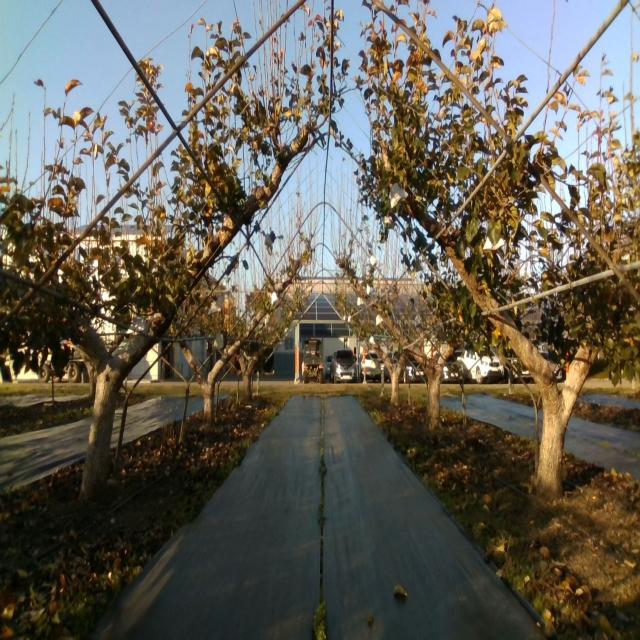pearbags: (388, 183, 407, 205), (126, 314, 146, 334)
